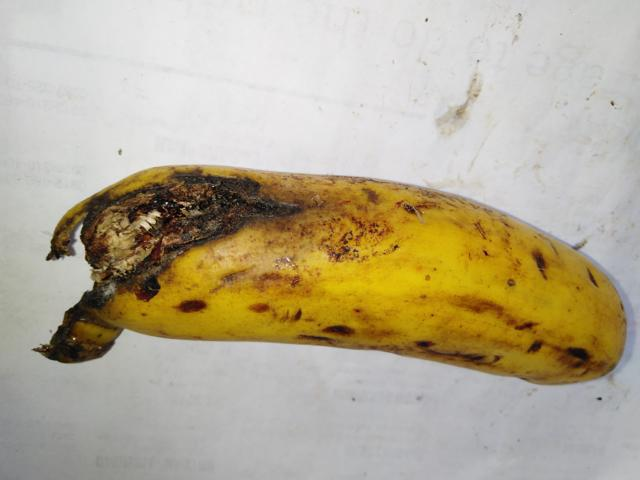rotten: (32, 128, 308, 374)
